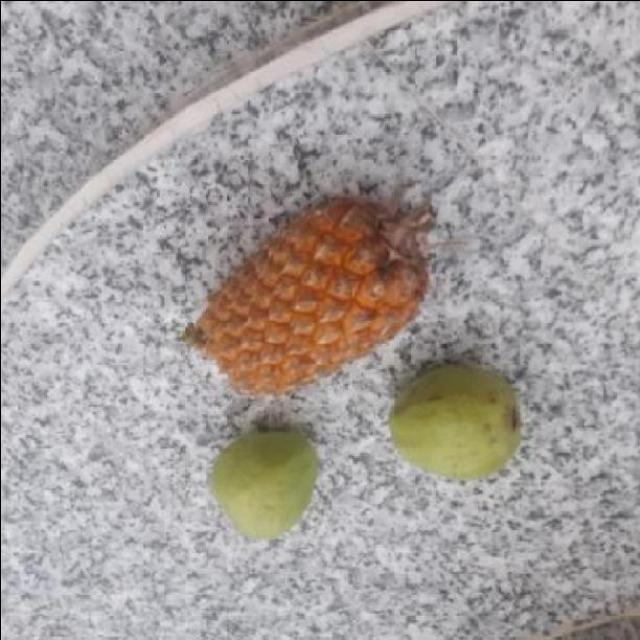organic: (183, 193, 443, 400), (379, 366, 522, 480), (204, 427, 320, 538)
